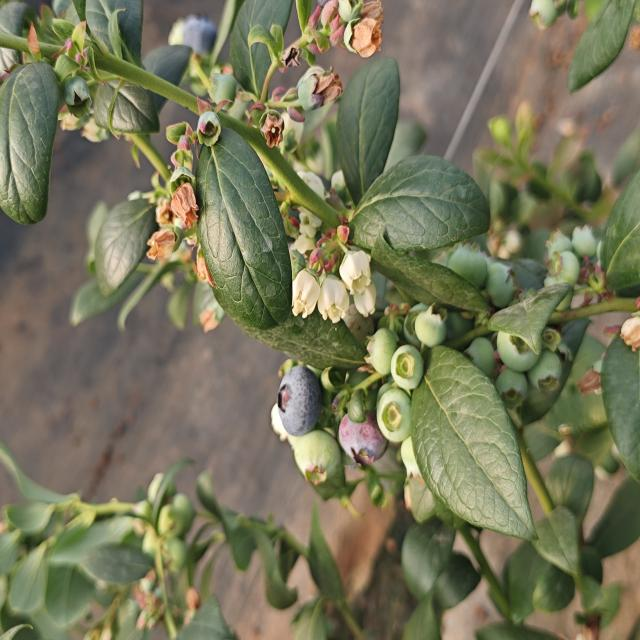ripe: (271, 360, 337, 440), (181, 8, 223, 64)
